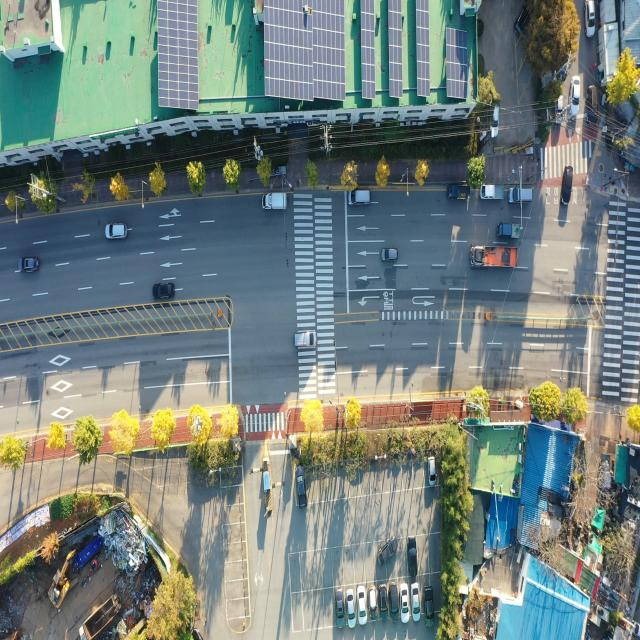car: (378, 533, 400, 570), (295, 459, 308, 512), (568, 73, 582, 120), (346, 184, 372, 209), (334, 586, 347, 633), (560, 163, 574, 204), (292, 329, 318, 351), (584, 0, 597, 42), (105, 220, 129, 242), (389, 580, 401, 622), (508, 184, 534, 203), (152, 282, 176, 302), (489, 98, 501, 137), (367, 583, 378, 625), (346, 584, 356, 630), (358, 582, 368, 628), (424, 583, 434, 629), (407, 537, 418, 578), (400, 580, 410, 625), (411, 579, 421, 622), (18, 256, 40, 275), (381, 246, 400, 264), (379, 583, 387, 620), (428, 454, 436, 486)
medium_truck: (74, 591, 126, 640), (468, 245, 520, 270)
small_truck: (477, 180, 507, 203), (262, 190, 288, 216), (443, 181, 472, 204), (497, 217, 521, 241), (586, 82, 598, 122)
